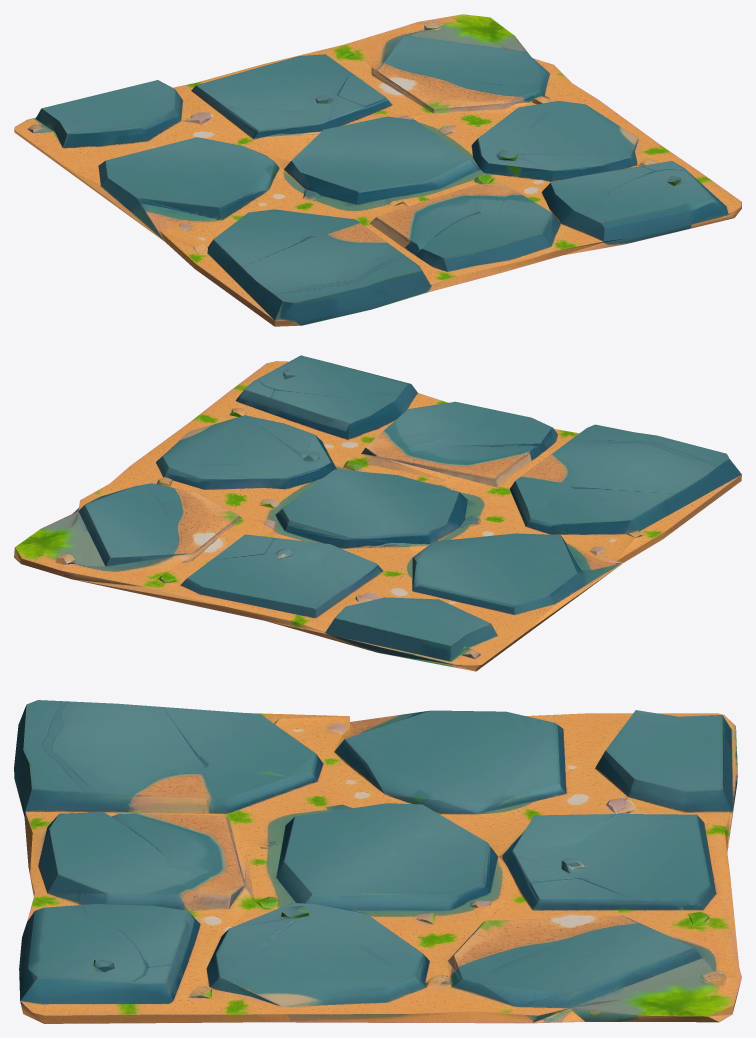
Rendered from path-stone.glb.
3 views of the same model, one above another, from view 1: azimuth 30°, elevation 25°; view 2: azimuth 150°, elevation 25°; view 3: azimuth 270°, elevation 25° (orthographic). The views are drawn at different scales.
Size of the model in its own units: 1.87 by 0.0998 by 1.9.
Materials: 1 (1 with a texture image).
